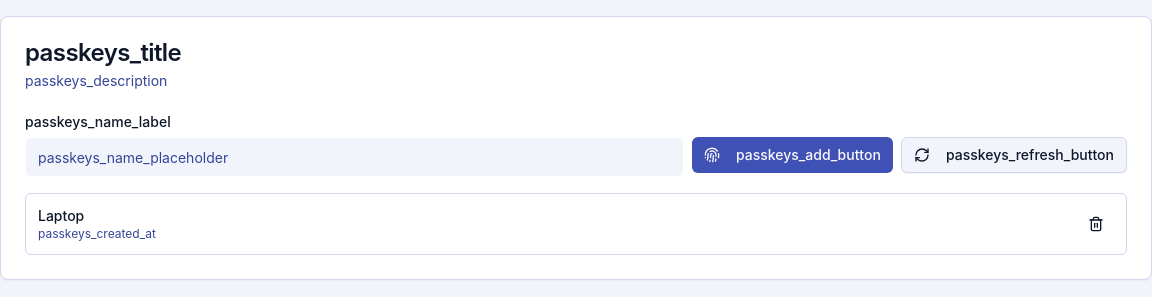
Scenario: PasskeySettingsCard › deletes a passkey and refreshes the list
Click the button named "passkeys_delete_button": (1096, 224) x1=1078 y1=206 x2=1114 y2=242
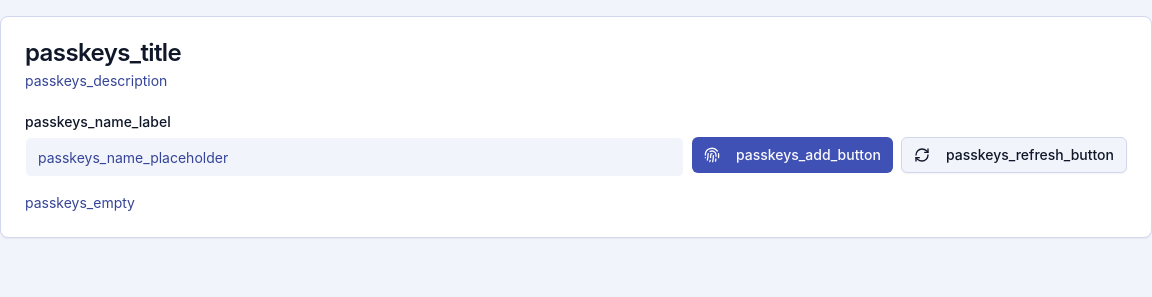
Expected: the text "passkeys_empty" is shown, x1=25 y1=194 x2=135 y2=211
